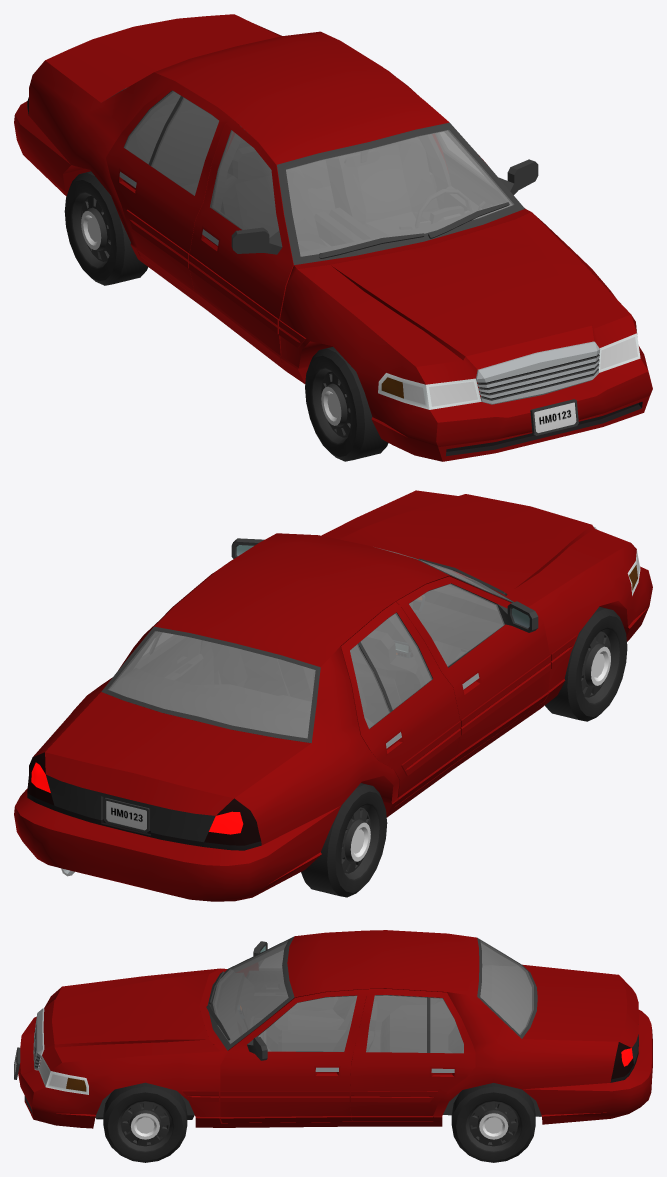
The model's file is Car.fbx.
The picture shows the model from 3 angles, top to bottom: view 1: azimuth 30°, elevation 25°; view 2: azimuth 150°, elevation 25°; view 3: azimuth 270°, elevation 25°; orthographic projection. The views are drawn at different scales.
Visible parts, largest first — view 1: Base_Car, Car_hood, CDoor_FR, CDoor_BR, Car_trunk, C_WheelFR, C_Wheels_B, CDoor_FL, Car_Steering_Wheel; view 2: Base_Car, Car_trunk, Car_hood, CDoor_FR, CDoor_BR, C_Wheels_B, C_WheelFR, CDoor_BL; view 3: Base_Car, CDoor_FL, CDoor_BL, Car_hood, Car_trunk, C_WheelFL, C_Wheels_B, CDoor_FR, CDoor_BR.
Part boxes in pixels (x1=…): Base_Car: x1=14, y1=16, x2=652, y2=461; Car_hood: x1=297, y1=212, x2=630, y2=366; CDoor_FR: x1=188, y1=118, x2=293, y2=363; CDoor_BR: x1=106, y1=82, x2=230, y2=296; Car_trunk: x1=45, y1=14, x2=279, y2=102; C_WheelFR: x1=305, y1=347, x2=388, y2=461; C_Wheels_B: x1=64, y1=171, x2=148, y2=285; CDoor_FL: x1=399, y1=80, x2=538, y2=211; Car_Steering_Wheel: x1=415, y1=189, x2=472, y2=227; Base_Car: x1=14, y1=490, x2=652, y2=901; Car_trunk: x1=45, y1=692, x2=310, y2=846; Car_hood: x1=321, y1=490, x2=630, y2=604; CDoor_FR: x1=396, y1=576, x2=550, y2=765; CDoor_BR: x1=341, y1=602, x2=460, y2=806; C_Wheels_B: x1=301, y1=783, x2=387, y2=897; C_WheelFR: x1=545, y1=606, x2=627, y2=721; CDoor_BL: x1=134, y1=571, x2=215, y2=684; Base_Car: x1=14, y1=930, x2=652, y2=1128; CDoor_FL: x1=220, y1=989, x2=366, y2=1122; CDoor_BL: x1=350, y1=989, x2=475, y2=1121; Car_hood: x1=52, y1=968, x2=219, y2=1062; Car_trunk: x1=522, y1=964, x2=638, y2=1067; C_WheelFL: x1=103, y1=1082, x2=187, y2=1162; C_Wheels_B: x1=451, y1=1083, x2=535, y2=1162; CDoor_FR: x1=237, y1=941, x2=338, y2=1028; CDoor_BR: x1=374, y1=996, x2=441, y2=1029.
Size of the model in its own units: 84.97 by 59.75 by 213.
